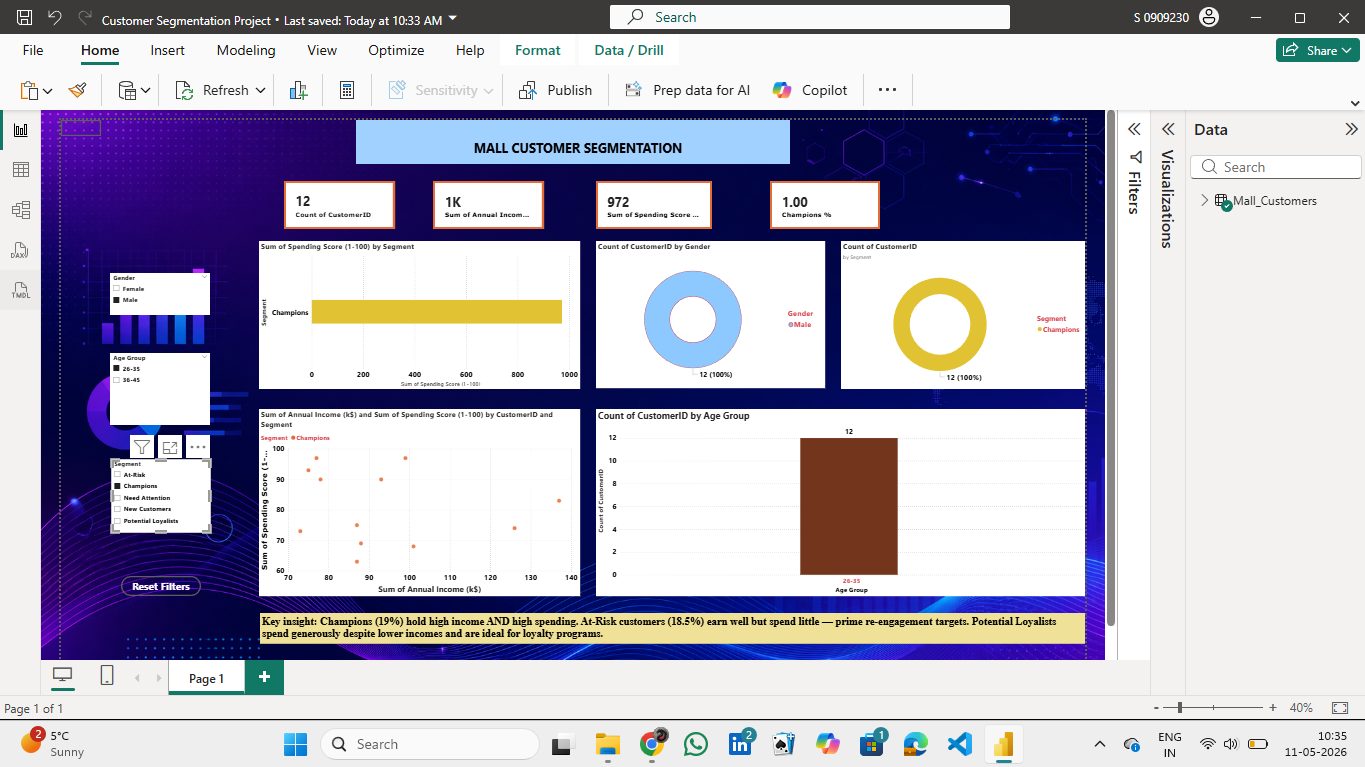

The page's visual inventory and layout, read from the dashboard file:
{"tool":"powerbi","page":{"name":"Page 1","canvas":[2560,1440],"ordinal":0},"visuals":[{"type":"cardVisual","fields":{"Data":["CountNonNull(Mall_Customers.CustomerID)"]},"box":[557.5,152.5,277.5,120],"z":0},{"type":"cardVisual","fields":{"Data":["Sum(Mall_Customers.Annual Income (k$))"]},"box":[930,152.5,277.5,120],"z":1000},{"type":"cardVisual","fields":{"Data":["Sum(Mall_Customers.Spending Score (1-100))"]},"box":[1337.5,152.5,290,120],"z":2000},{"type":"textbox","box":[737.5,0,1085,110],"z":3000},{"type":"scatterChart","fields":{"Y":["Sum(Mall_Customers.Spending Score (1-100))"],"X":["Sum(Mall_Customers.Annual Income (k$))"],"Category":["Mall_Customers.CustomerID"],"Series":["Mall_Customers.Segment"]},"box":[495,722.5,802.5,467.5],"z":4000},{"type":"donutChart","fields":{"Category":["Mall_Customers.Segment"],"Y":["CountNonNull(Mall_Customers.CustomerID)"]},"box":[1950,302.5,610,370],"z":5000},{"type":"slicer","fields":{"Values":["Mall_Customers.Gender"]},"box":[122.5,382.5,250,105],"z":6000},{"type":"slicer","fields":{"Values":["Mall_Customers.Age Group"]},"box":[122.5,582.5,250,180],"z":7000},{"type":"slicer","fields":{"Values":["Mall_Customers.Segment"]},"box":[125,847.5,250,185],"z":8000},{"type":"donutChart","fields":{"Category":["Mall_Customers.Gender"],"Y":["CountNonNull(Mall_Customers.CustomerID)"]},"box":[1337.5,302.5,572.5,367.5],"z":9000},{"type":"clusteredBarChart","fields":{"Category":["Mall_Customers.Segment"],"Y":["Sum(Mall_Customers.Spending Score (1-100))"]},"box":[495,302.5,802.5,370],"z":10000},{"type":"clusteredColumnChart","fields":{"Category":["Mall_Customers.Age Group"],"Y":["CountNonNull(Mall_Customers.CustomerID)"]},"box":[1337.5,722.5,1222.5,467.5],"z":11000},{"type":"cardVisual","fields":{"Data":["Mall_Customers.Champions %"]},"box":[1772.5,152.5,275,120],"z":12000},{"type":"actionButton","box":[0,0,100,40],"z":13000},{"type":"actionButton","box":[150,1140,200,50],"z":14000},{"type":"textbox","box":[496.7,1233.3,2063.3,76.7],"z":14001}]}

Visuals, with their boxes on the page's 2560x1440 design canvas (x1, y1, x2, y2). These are canvas units, not pixel positions in the 1365x767 screenshot, which may show the page scaled, cropped or inside an application window:
cardVisual - CountNonNull(Mall_Customers.CustomerID): box=[558, 152, 835, 272]
cardVisual - Sum(Mall_Customers.Annual Income (k$)): box=[930, 152, 1208, 272]
cardVisual - Sum(Mall_Customers.Spending Score (1-100)): box=[1338, 152, 1628, 272]
textbox: box=[738, 0, 1822, 110]
scatterChart - Sum(Mall_Customers.Spending Score (1-100)) x Sum(Mall_Customers.Annual Income (k$)): box=[495, 722, 1298, 1190]
donutChart - Mall_Customers.Segment x CountNonNull(Mall_Customers.CustomerID): box=[1950, 302, 2560, 672]
slicer - Mall_Customers.Gender: box=[122, 382, 372, 488]
slicer - Mall_Customers.Age Group: box=[122, 582, 372, 762]
slicer - Mall_Customers.Segment: box=[125, 848, 375, 1032]
donutChart - Mall_Customers.Gender x CountNonNull(Mall_Customers.CustomerID): box=[1338, 302, 1910, 670]
clusteredBarChart - Mall_Customers.Segment x Sum(Mall_Customers.Spending Score (1-100)): box=[495, 302, 1298, 672]
clusteredColumnChart - Mall_Customers.Age Group x CountNonNull(Mall_Customers.CustomerID): box=[1338, 722, 2560, 1190]
cardVisual - Mall_Customers.Champions %: box=[1772, 152, 2048, 272]
actionButton: box=[0, 0, 100, 40]
actionButton: box=[150, 1140, 350, 1190]
textbox: box=[497, 1233, 2560, 1310]
